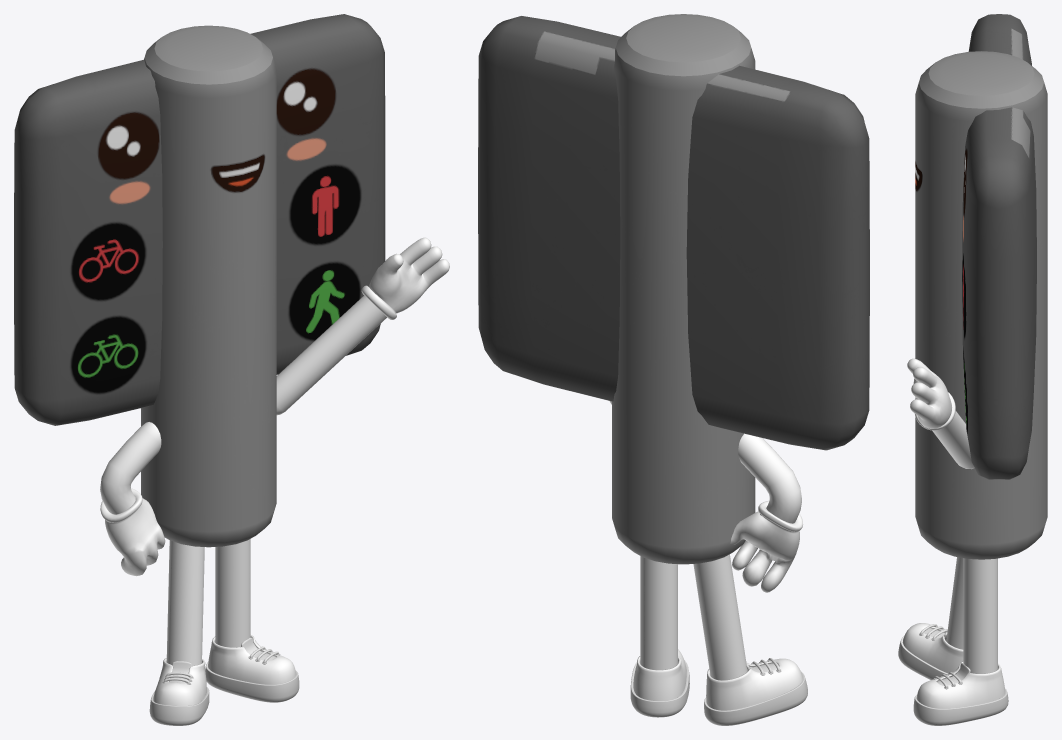
Rendered from bicycleCrossing_textured.glb.
3 views of the same model, side by side, from view 1: azimuth 30°, elevation 25°; view 2: azimuth 150°, elevation 25°; view 3: azimuth 270°, elevation 25° (orthographic). The views are drawn at different scales.
Visible parts, largest first — view 1: CyclingPath2, Arm_right2, Legs_left, Legs_right, wayfinding1_copy4; view 2: CyclingPath2, Legs_right, wayfinding1_copy4, Legs_left; view 3: CyclingPath2, Legs_left, Legs_right, Arm_right2.
Boxes of the visible parts, bbox=[...] form: CyclingPath2: bbox=[14, 14, 385, 547]; Arm_right2: bbox=[276, 237, 449, 415]; Legs_left: bbox=[205, 539, 299, 702]; Legs_right: bbox=[149, 540, 209, 725]; wayfinding1_copy4: bbox=[100, 422, 165, 576]; CyclingPath2: bbox=[478, 14, 869, 564]; Legs_right: bbox=[693, 554, 807, 725]; wayfinding1_copy4: bbox=[730, 433, 802, 592]; Legs_left: bbox=[630, 556, 689, 717]; CyclingPath2: bbox=[915, 14, 1047, 559]; Legs_left: bbox=[913, 558, 1008, 725]; Legs_right: bbox=[898, 557, 963, 679]; Arm_right2: bbox=[907, 358, 974, 469].
Bounding box in the file's own units: 0.3732 × 0.5943 × 0.1278.
6 materials, 1 textured.
